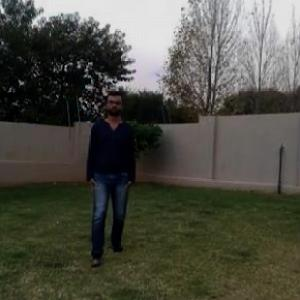follow: (87, 86, 130, 260)
